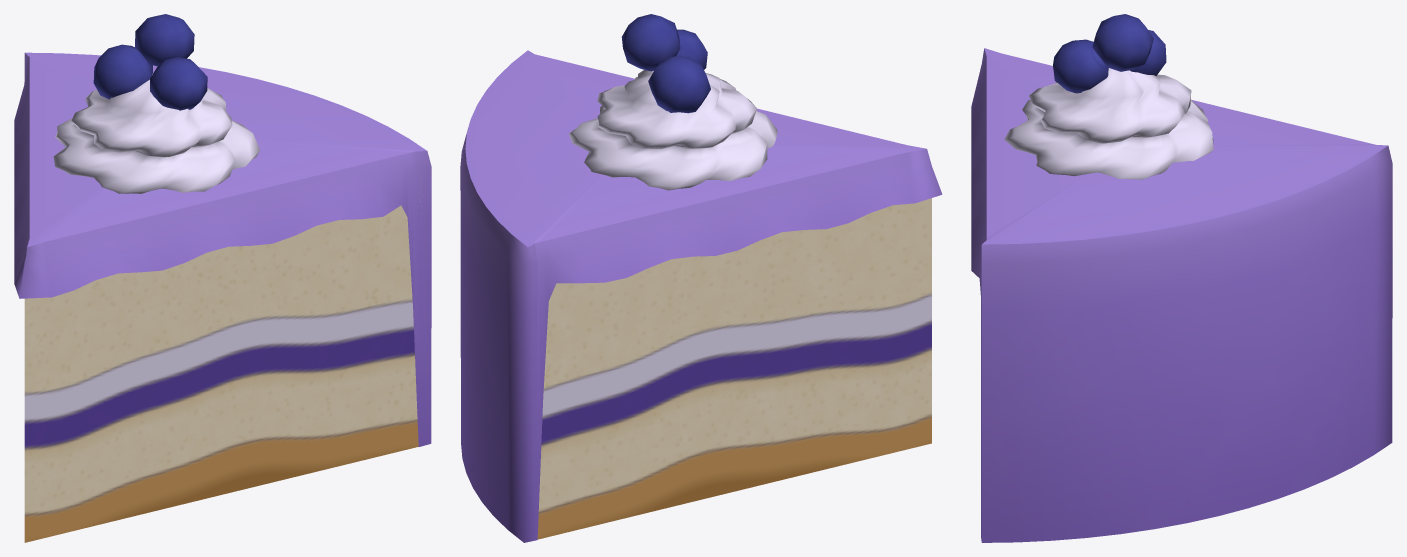
File: blueberry_slice.glb
3 views of the same model, side by side, from view 1: azimuth 30°, elevation 25°; view 2: azimuth 150°, elevation 25°; view 3: azimuth 270°, elevation 25° (orthographic).
Parts seen in each view (by area): view 1: BlueberrySlice; view 2: BlueberrySlice; view 3: BlueberrySlice.
Part boxes in pixels (bbox=[...]): BlueberrySlice: bbox=[14, 14, 431, 542]; BlueberrySlice: bbox=[460, 14, 942, 542]; BlueberrySlice: bbox=[971, 14, 1392, 542].
Size of the model in its own units: 1.04 by 1.02 by 0.9096.
1 material, 1 textured.
